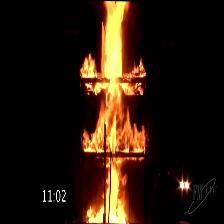fire: (91, 1, 135, 224)
